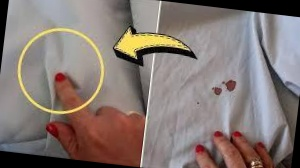blood: (213, 78, 237, 98)
